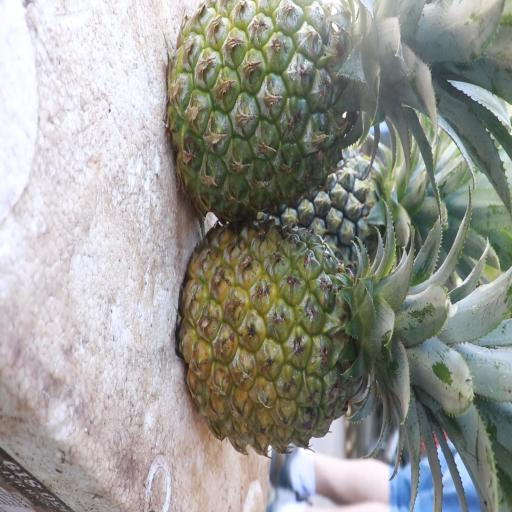------------------------------: (165, 0, 405, 214)
Pineapple - v8 v1: (184, 222, 414, 465)
